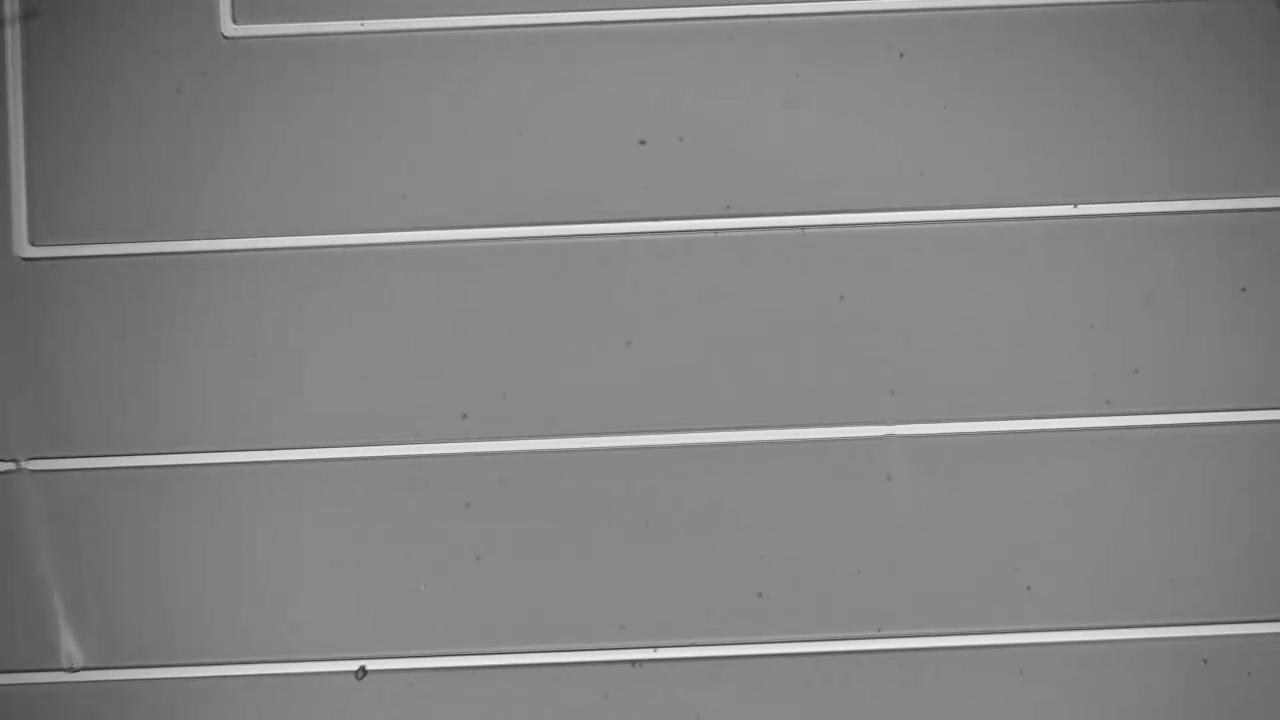open: (2, 448, 41, 480)
stains_enbedded: (341, 647, 384, 690)
